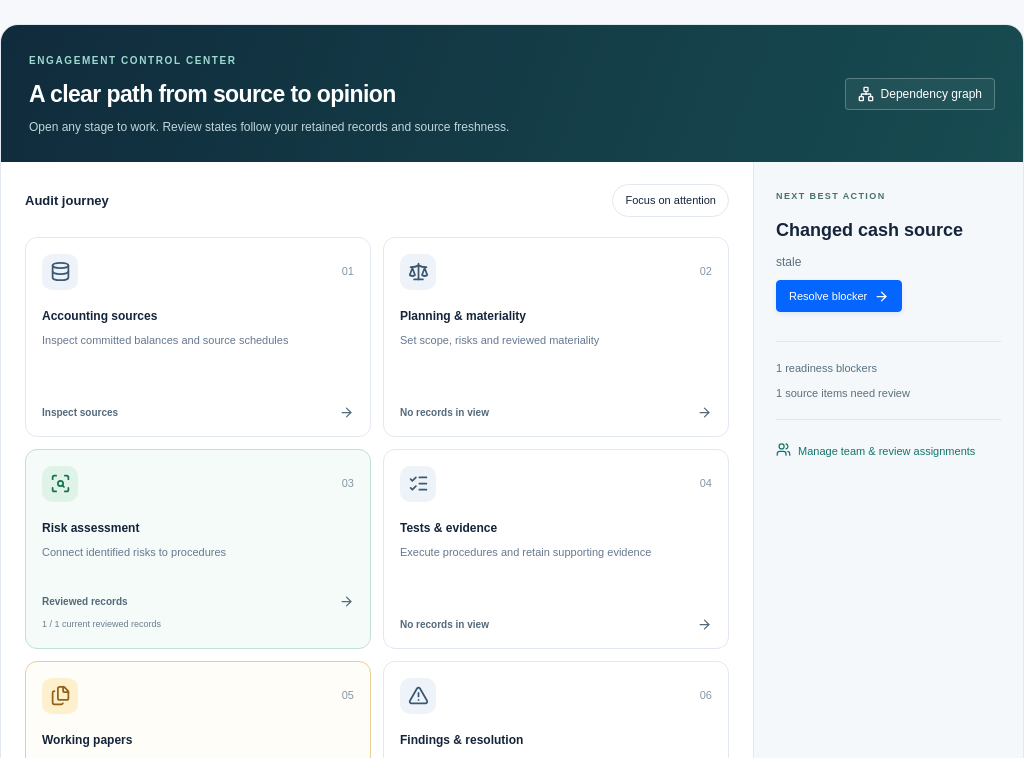
Test: keeps stale approved papers in attention and links the reviewer to the actual blocker
Click the button "Focus on attention" at (671, 200), box [612,184,729,217]
(page scrolled)
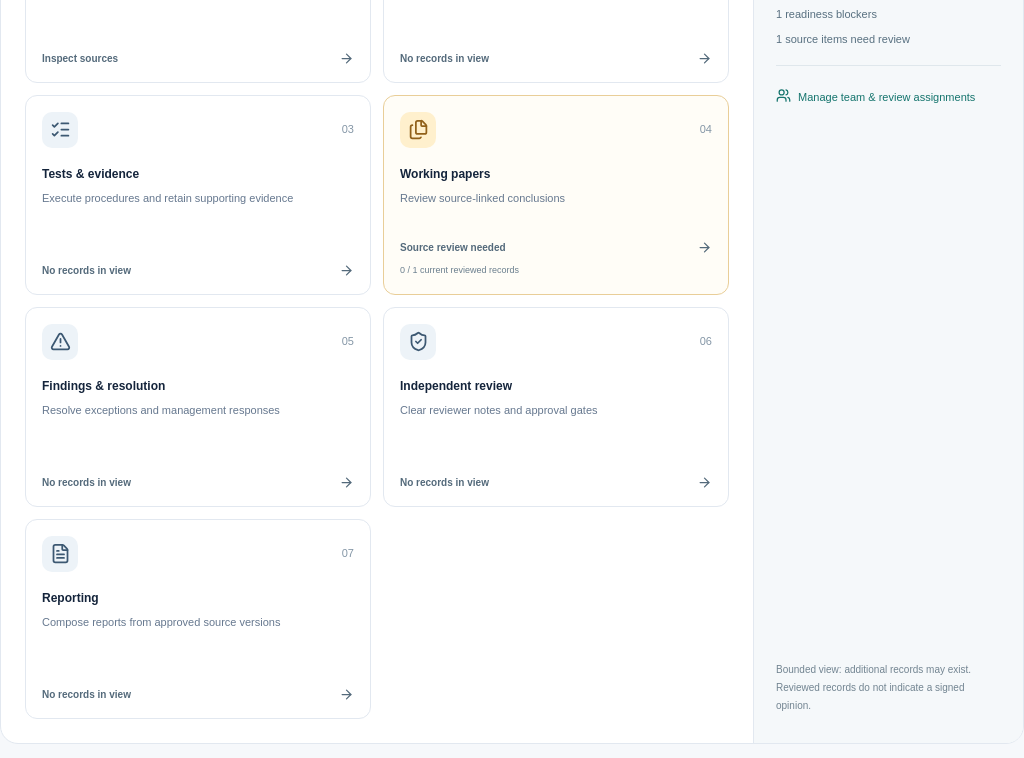
Expected: the link "Working papers" is shown, [383,95,729,295]
Result: the link "Risk assessment" is gone
